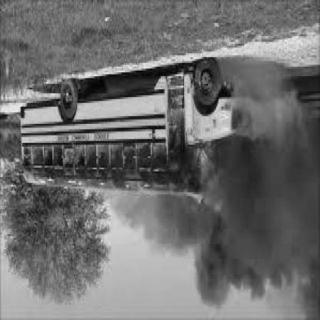Fire: (16, 103, 230, 205)
